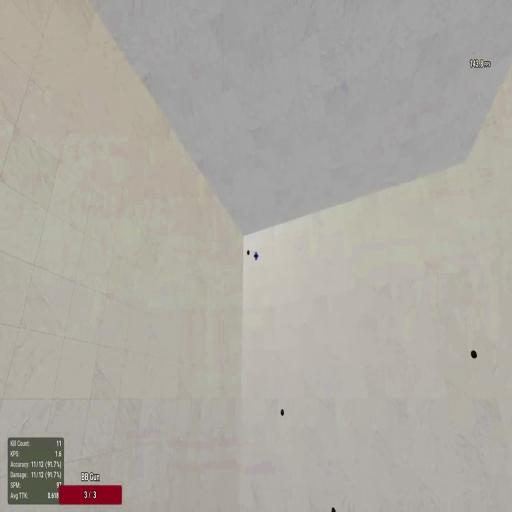Crosshair: (253, 251, 259, 261)
Target: (470, 349, 477, 361), (281, 408, 284, 416), (331, 507, 337, 511), (246, 250, 250, 255)
